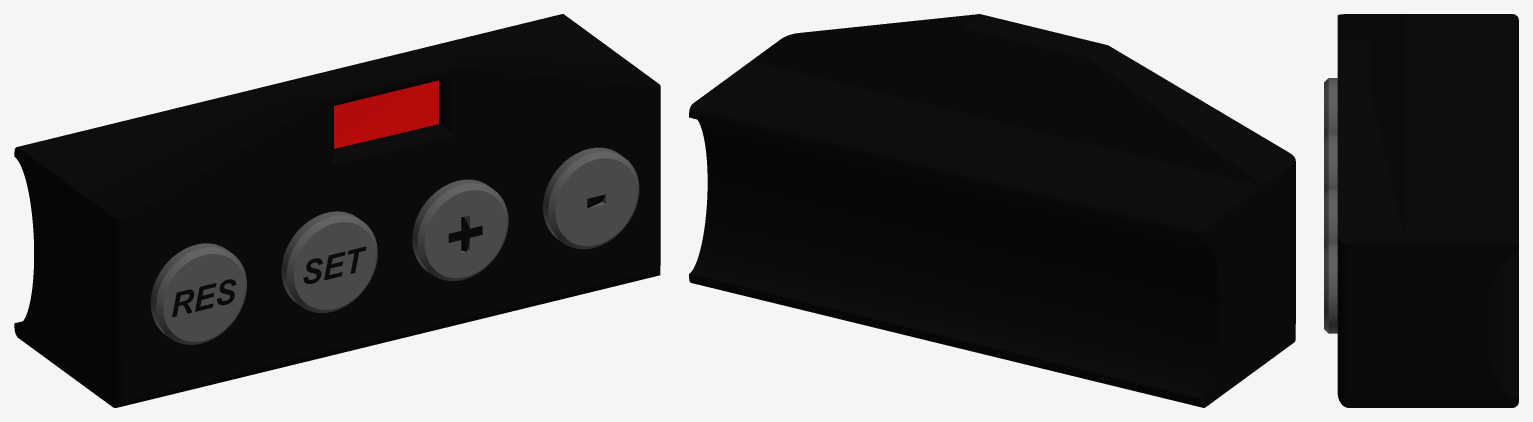
The model's file is cruise_control_panel.obj.
3 renders of one model, left to right at view 1: azimuth 30°, elevation 25°; view 2: azimuth 150°, elevation 25°; view 3: azimuth 270°, elevation 25°, orthographic. The views are drawn at different scales.
Parts seen in each view (by area): view 1: Panel_CruiseControlPanel.001, Switch_Minus_CruiseControlPanel_Minus.001, Switch_Plus_CruiseControlPanel_Plus.001, Switch_Set_CruiseControlPanel_Set.001, Switch_Reset_CruiseControlPanel_Reset.001, Display_Background_CruiseControlPanel_DisplayBackground, Switch_Reset_Text_CruiseControlPanel_Reset_Text, Switch_Set_Text_CruiseControlPanel_Set_Text; view 2: Panel_CruiseControlPanel.001; view 3: Panel_CruiseControlPanel.001, Switch_Minus_CruiseControlPanel_Minus.001, Switch_Plus_CruiseControlPanel_Plus.001, Switch_Set_CruiseControlPanel_Set.001, Switch_Reset_CruiseControlPanel_Reset.001.
Boxes of the visible parts, bbox=[...] form: Panel_CruiseControlPanel.001: bbox=[14, 14, 660, 407]; Switch_Minus_CruiseControlPanel_Minus.001: bbox=[543, 147, 639, 249]; Switch_Plus_CruiseControlPanel_Plus.001: bbox=[412, 179, 508, 280]; Switch_Set_CruiseControlPanel_Set.001: bbox=[281, 211, 377, 312]; Switch_Reset_CruiseControlPanel_Reset.001: bbox=[150, 243, 246, 344]; Display_Background_CruiseControlPanel_DisplayBackground: bbox=[334, 80, 438, 148]; Switch_Reset_Text_CruiseControlPanel_Reset_Text: bbox=[172, 279, 236, 317]; Switch_Set_Text_CruiseControlPanel_Set_Text: bbox=[303, 246, 366, 283]; Panel_CruiseControlPanel.001: bbox=[689, 14, 1295, 407]; Panel_CruiseControlPanel.001: bbox=[1337, 14, 1518, 407]; Switch_Minus_CruiseControlPanel_Minus.001: bbox=[1324, 243, 1337, 333]; Switch_Plus_CruiseControlPanel_Plus.001: bbox=[1324, 188, 1337, 247]; Switch_Set_CruiseControlPanel_Set.001: bbox=[1324, 133, 1337, 192]; Switch_Reset_CruiseControlPanel_Reset.001: bbox=[1324, 78, 1337, 136].
Bounding box in the file's own units: 0.12 × 0.055 × 0.043.
